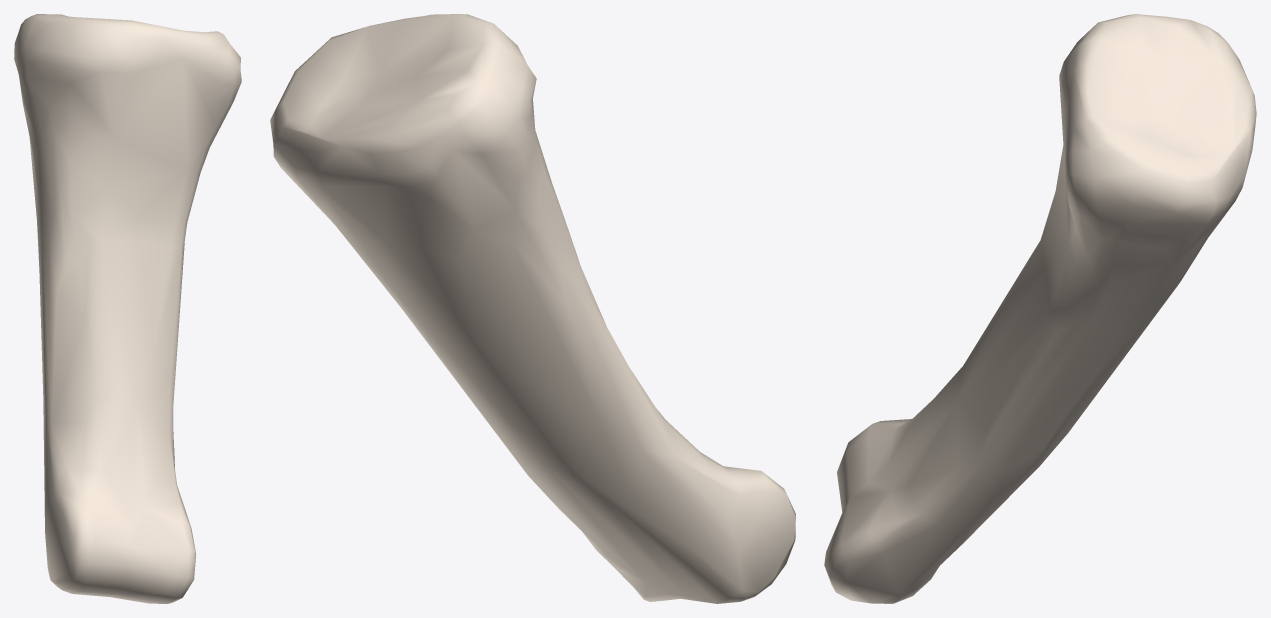
The model's file is right_digit_2_proximal.glb.
3 renders of one model, left to right at view 1: azimuth 30°, elevation 25°; view 2: azimuth 150°, elevation 25°; view 3: azimuth 270°, elevation 25°, orthographic. The views are drawn at different scales.
Visible parts, largest first — view 1: Proximal phalanx of 2d finger.r; view 2: Proximal phalanx of 2d finger.r; view 3: Proximal phalanx of 2d finger.r.
Boxes of the visible parts, <box> form: Proximal phalanx of 2d finger.r: <box>14,14,241,603</box>; Proximal phalanx of 2d finger.r: <box>270,14,795,603</box>; Proximal phalanx of 2d finger.r: <box>824,14,1256,603</box>.
Bounding box in the file's own units: 0.013 × 0.0226 × 0.0147.
